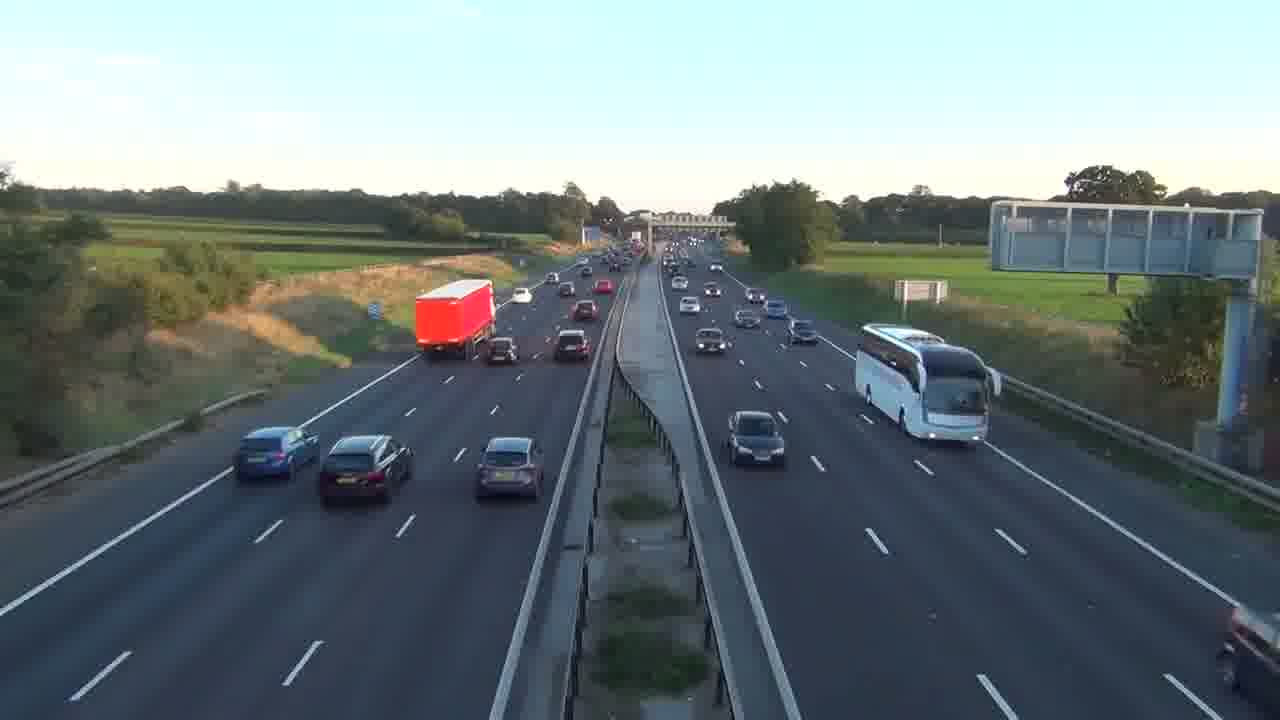bus: (853, 322, 991, 444)
car: (319, 433, 414, 506), (235, 425, 320, 481), (474, 436, 545, 500), (726, 409, 788, 468), (554, 327, 592, 362), (695, 327, 730, 356), (592, 277, 614, 295)
truck: (415, 278, 496, 359)
